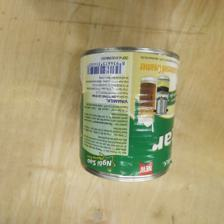NSPN_Lon: (77, 46, 180, 183)
